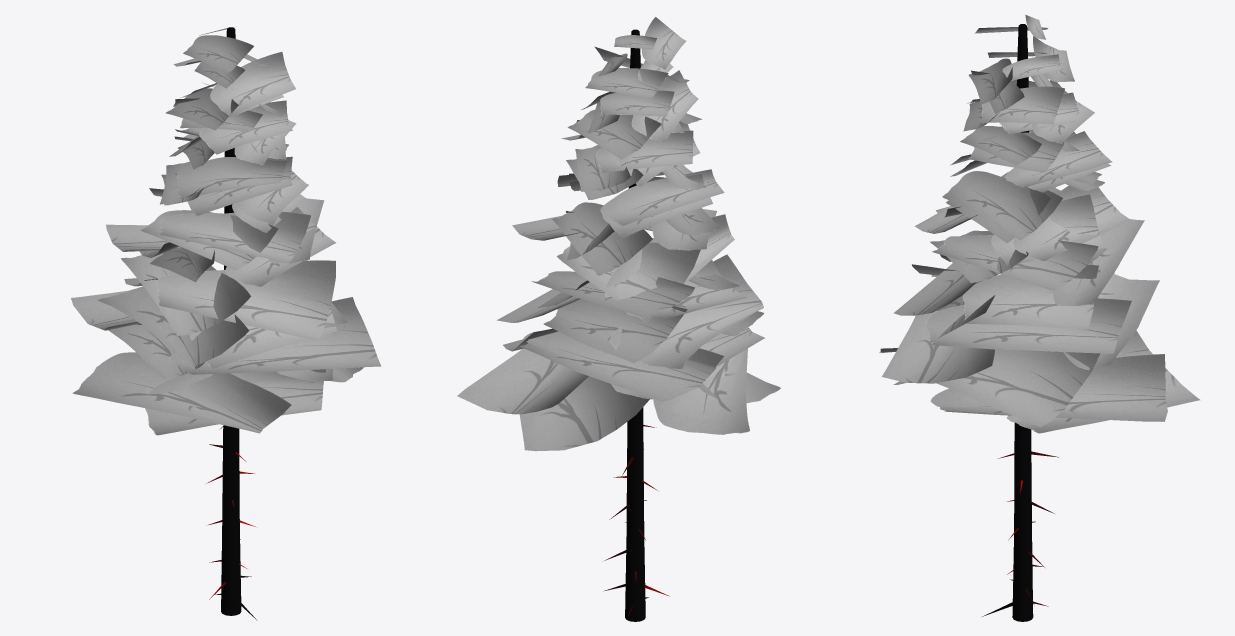
Rendered from M_Pine_5_10.fbx.
3 views of the same model, side by side, from view 1: azimuth 30°, elevation 25°; view 2: azimuth 150°, elevation 25°; view 3: azimuth 270°, elevation 25° (orthographic).
Parts seen in each view (by area): view 1: Mobile_Pine_10; view 2: Mobile_Pine_10; view 3: Mobile_Pine_10.
Part boxes in pixels (left/top/right/bottom): Mobile_Pine_10: left=71, top=27, right=381, bottom=620; Mobile_Pine_10: left=457, top=17, right=780, bottom=621; Mobile_Pine_10: left=879, top=14, right=1200, bottom=621.
Size of the model in its own units: 2075 by 3590 by 2048.
